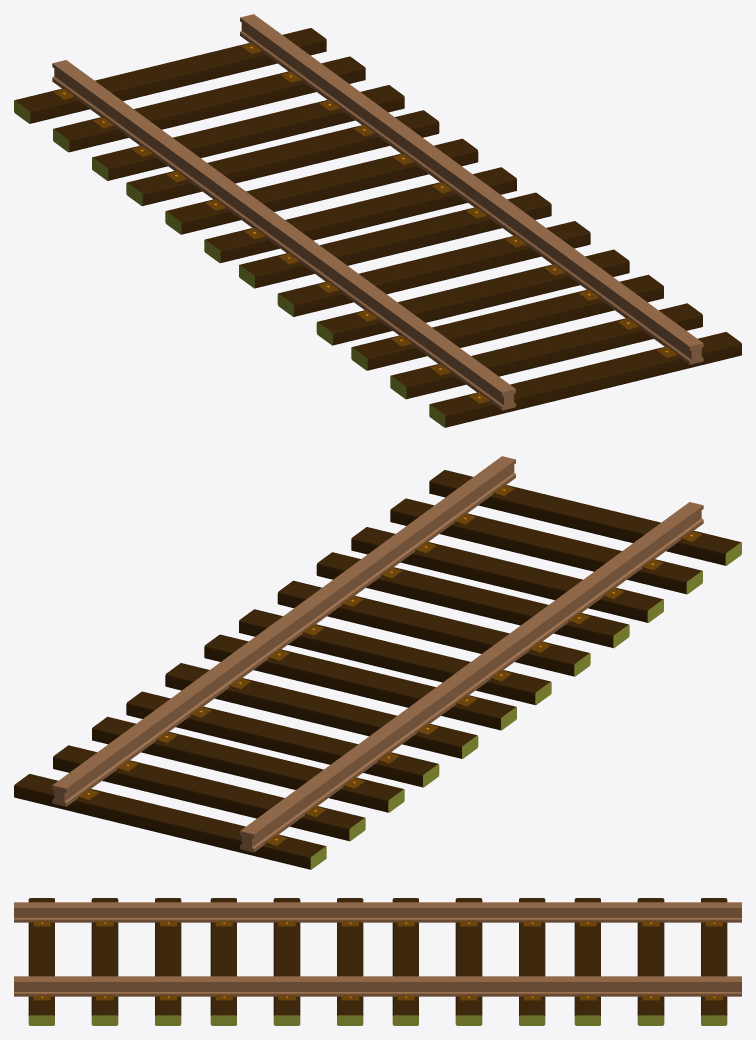
Rendered from TracksProto.fbx.
The picture shows the model from 3 angles, top to bottom: view 1: azimuth 30°, elevation 25°; view 2: azimuth 150°, elevation 25°; view 3: azimuth 270°, elevation 25°; orthographic projection. The views are drawn at different scales.
Parts seen in each view (by area): view 1: polySurface197; view 2: polySurface197; view 3: polySurface197.
Boxes of the visible parts, left/top/right/bottom form: polySurface197: left=14, top=14, right=741, bottom=427; polySurface197: left=14, top=456, right=741, bottom=869; polySurface197: left=14, top=898, right=741, bottom=1025.
Size of the model in its own units: 0.6591 by 0.0661 by 1.73.
